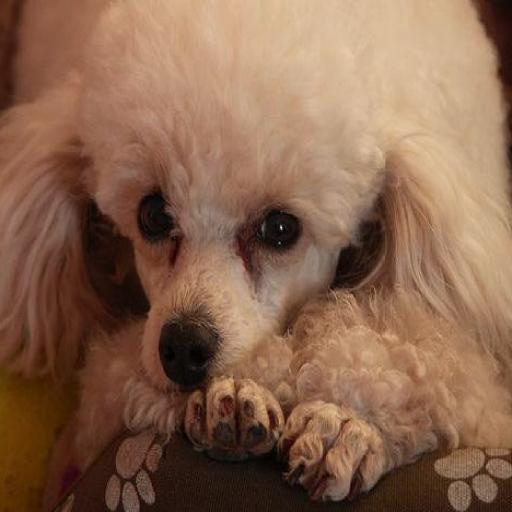dog_face: (0, 0, 499, 407)
